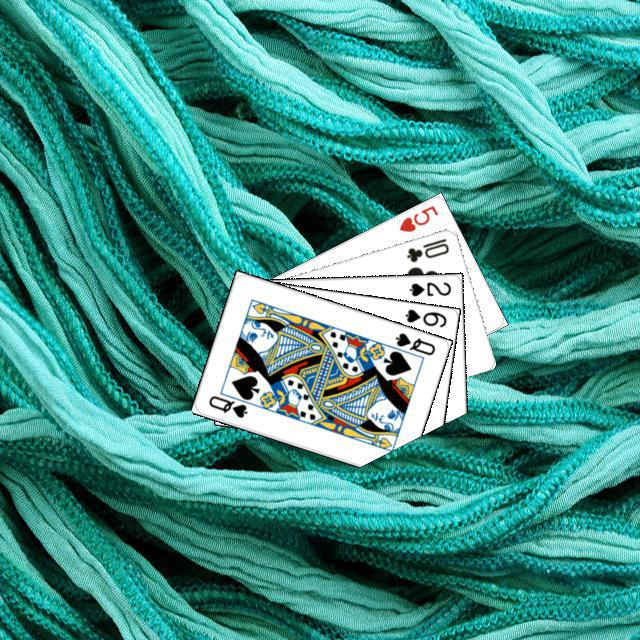10c: (402, 233, 451, 264)
2s: (405, 277, 452, 298)
5h: (394, 201, 440, 234)
6s: (400, 304, 448, 329)
Qs: (391, 328, 437, 357), (203, 391, 249, 420)
